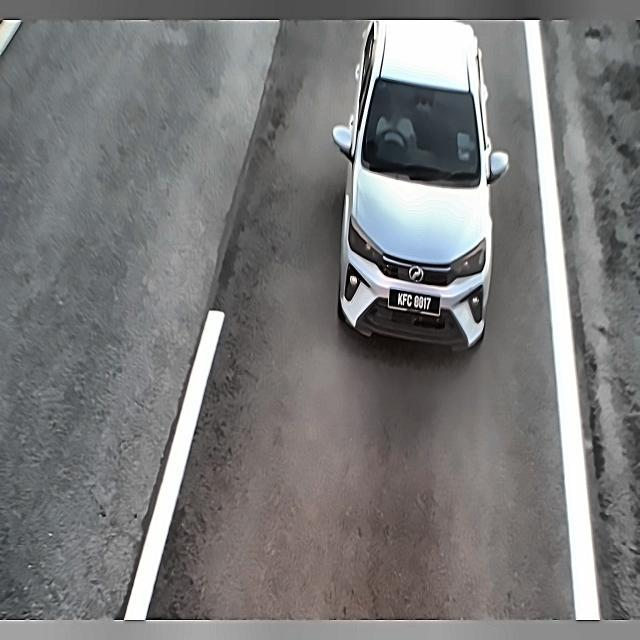car: (385, 284, 444, 318)
